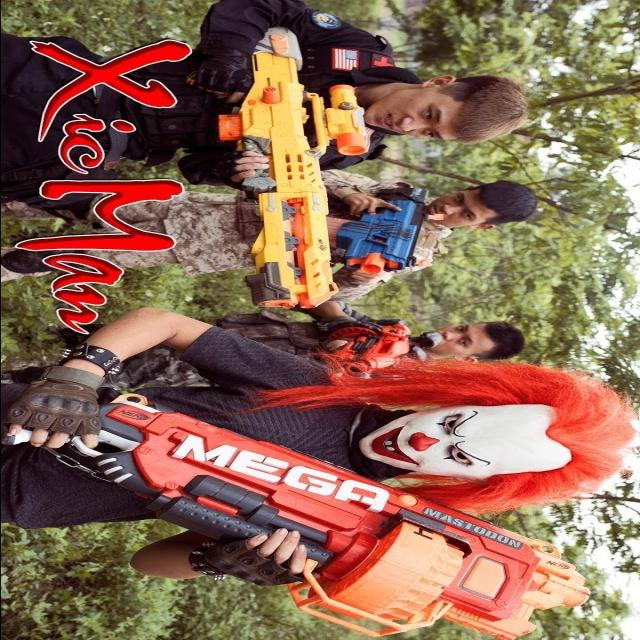Nerf gun: (14, 378, 594, 640), (204, 21, 381, 311), (318, 180, 434, 279), (315, 307, 417, 377)
